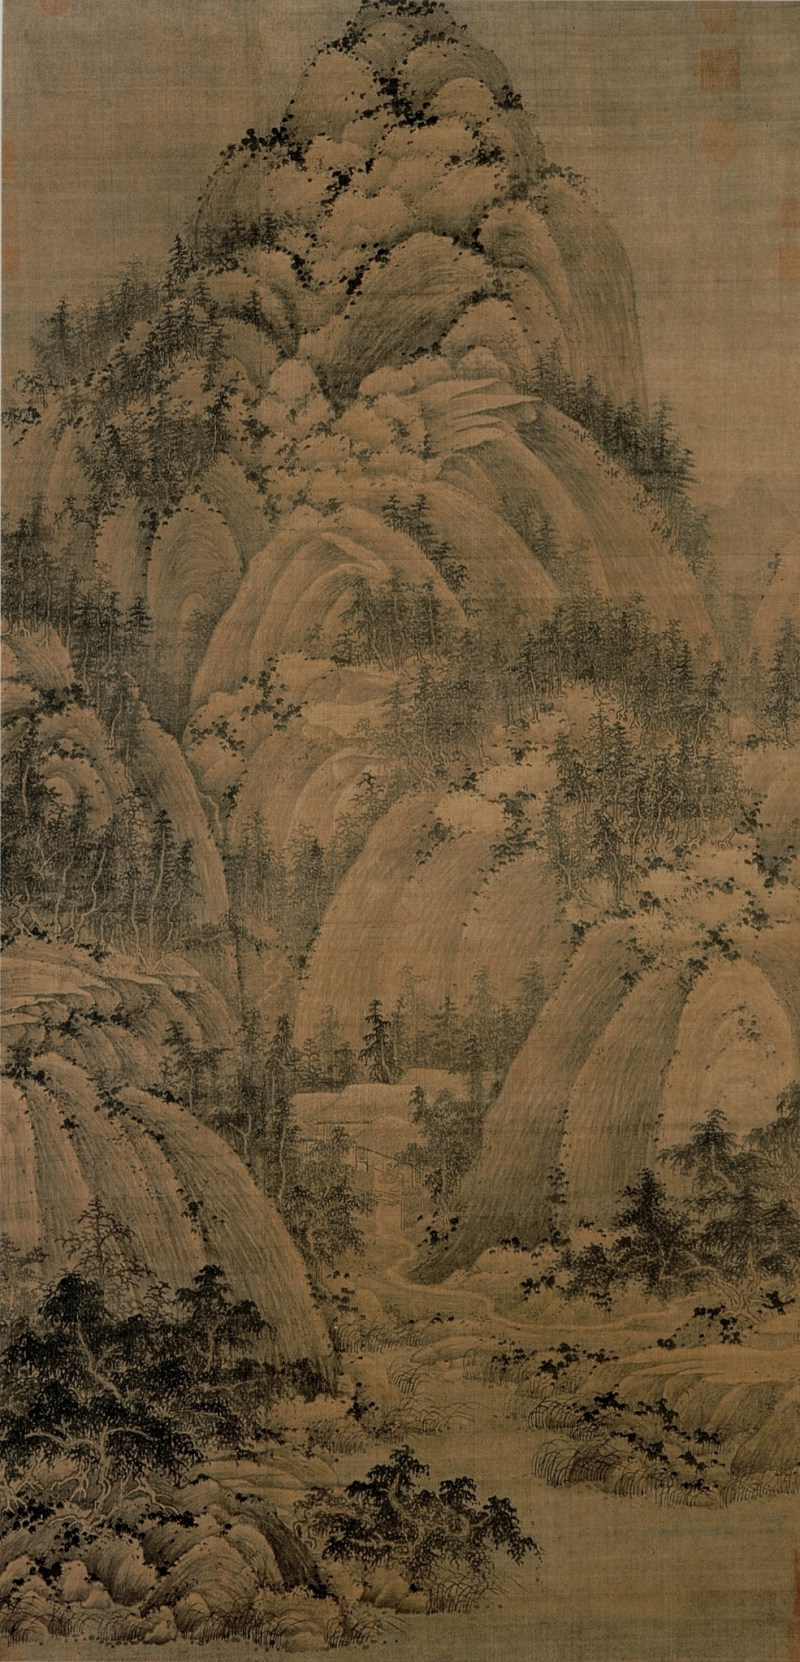house: (294, 1071, 458, 1243)
mountain: (63, 11, 775, 1120)
pine: (573, 615, 711, 881), (1, 752, 177, 949), (1, 532, 146, 720), (557, 388, 728, 543), (57, 316, 221, 445), (351, 584, 455, 656)
river: (411, 1374, 777, 1657)
tree: (11, 1267, 294, 1503), (571, 1148, 793, 1338), (331, 1450, 504, 1592)
